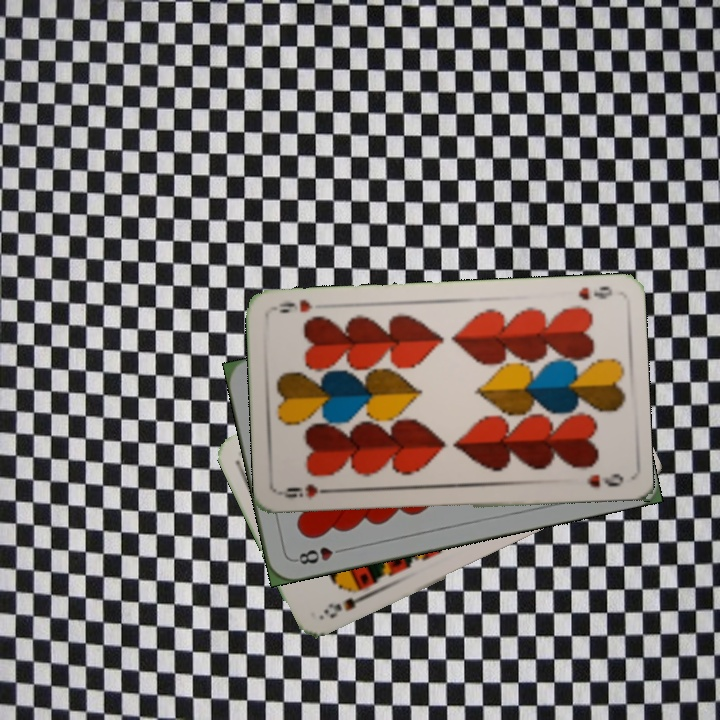H8: (291, 542, 349, 567)
H9: (278, 480, 337, 502), (575, 282, 615, 303)
S9: (318, 588, 374, 621)
